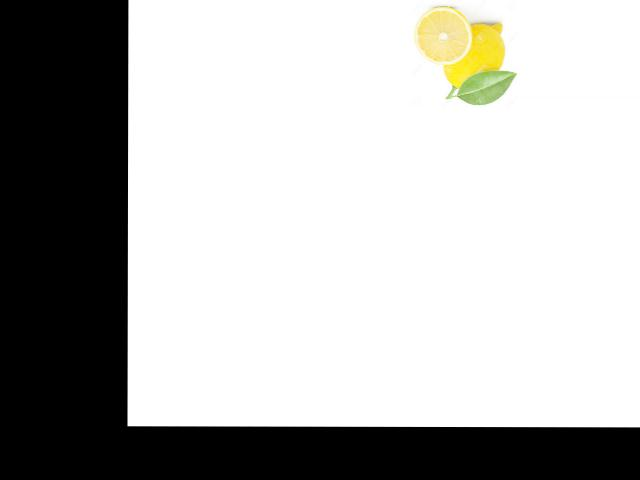lemon: (439, 19, 508, 98)
